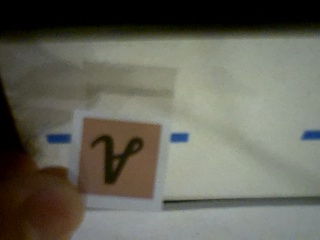A: (75, 116, 163, 201)
